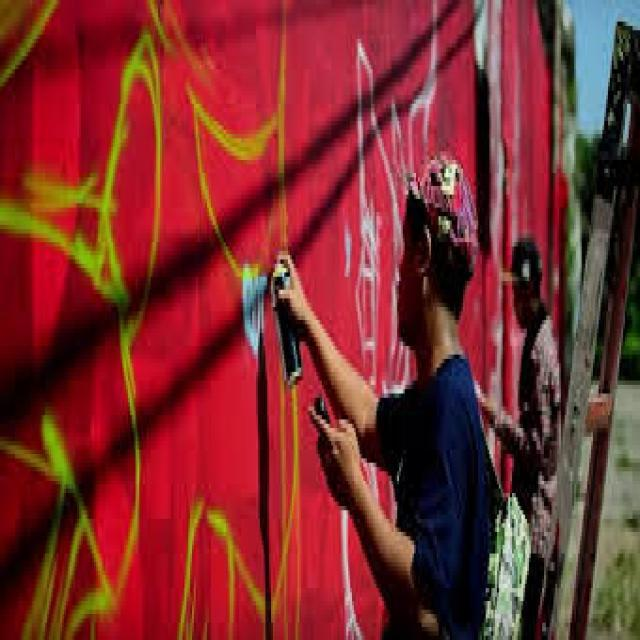-: (2, 2, 301, 640), (342, 2, 442, 640)
